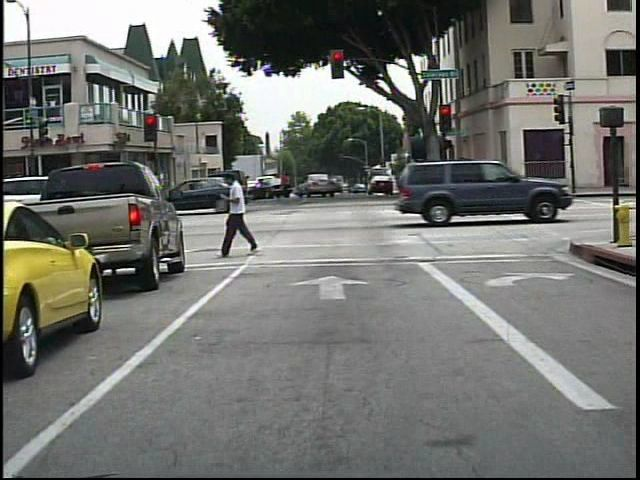person: (219, 167, 263, 258), (273, 164, 300, 207)
